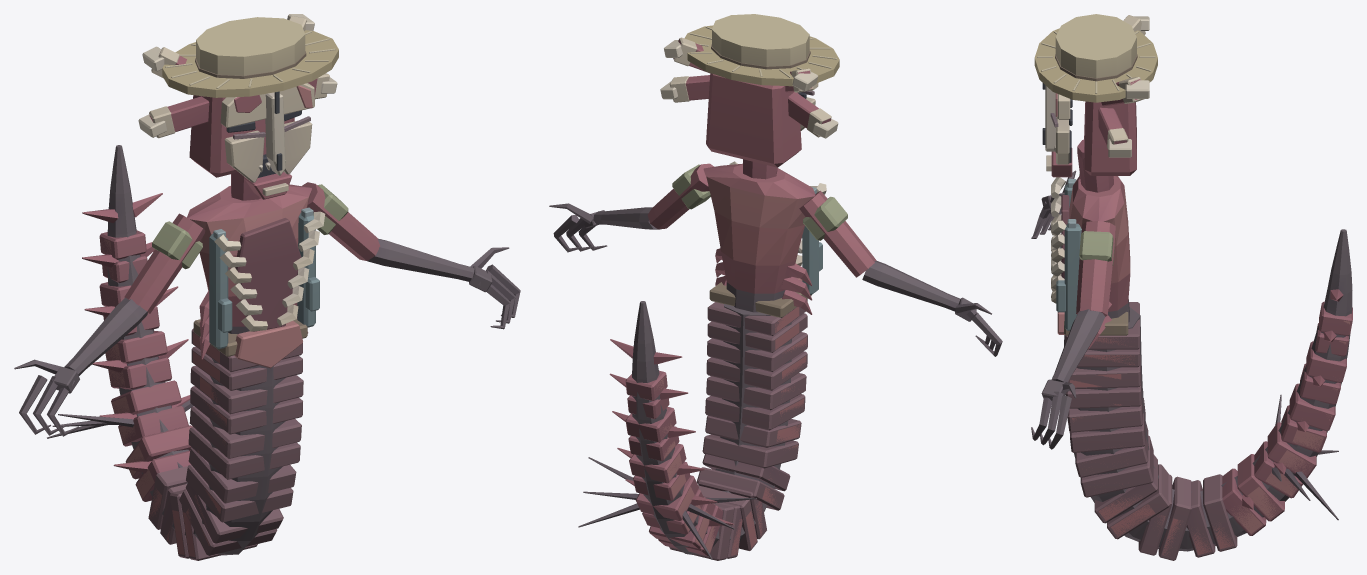
The model's file is DredgeFarmer.glb.
The picture shows the model from 3 angles, left to right: view 1: azimuth 30°, elevation 25°; view 2: azimuth 150°, elevation 25°; view 3: azimuth 270°, elevation 25°; orthographic projection. The views are drawn at different scales.
Parts seen in each view (by area): view 1: Body, Head, ArmR, ArmL; view 2: Body, Head, ArmR, ArmL; view 3: Body, Head, ArmL, ArmR.
Boxes of the visible parts, x1,y1,x2,y2 form: Body: (47,145,325,560); Head: (138,14,338,200); ArmR: (14,213,205,436); ArmL: (301,182,520,329); Body: (578,161,826,560); Head: (660,14,839,179); ArmR: (799,190,1002,356); ArmL: (549,163,713,252); Body: (1051,175,1352,560); Head: (1034,14,1157,192); ArmL: (1031,221,1115,449); ArmR: (1031,170,1079,238).
Size of the model in its own units: 6.83 by 7.11 by 4.04.
